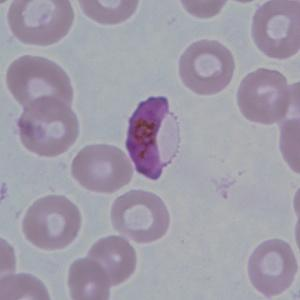Infected: (125, 95, 181, 181)
Uninfected: (6, 54, 74, 113), (16, 96, 79, 156), (22, 195, 82, 252), (113, 190, 172, 244), (72, 142, 135, 192), (179, 40, 235, 95), (237, 67, 289, 125), (7, 0, 75, 44), (246, 238, 298, 295), (252, 0, 300, 58), (91, 235, 137, 285), (68, 258, 111, 300)
